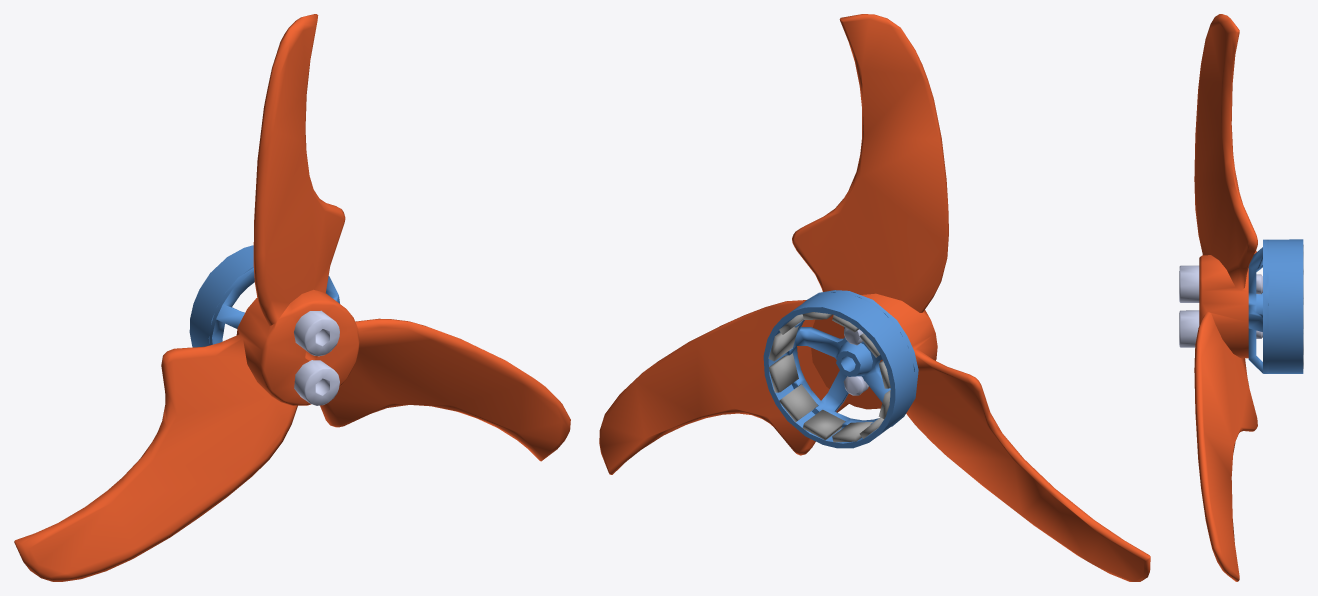
File: vmg_ccw.obj
The picture shows the model from 3 angles, left to right: view 1: azimuth 30°, elevation 25°; view 2: azimuth 150°, elevation 25°; view 3: azimuth 270°, elevation 25°; orthographic projection. The views are drawn at different scales.
Parts seen in each view (by area): view 1: vmg_ccw; view 2: vmg_ccw; view 3: vmg_ccw.
Part boxes in pixels (x1,y1,x2,y2): vmg_ccw: (14,14,570,581); vmg_ccw: (599,14,1150,581); vmg_ccw: (1179,14,1303,581).
Bounding box in the file's own units: 0.0576 × 0.051 × 0.0126.
